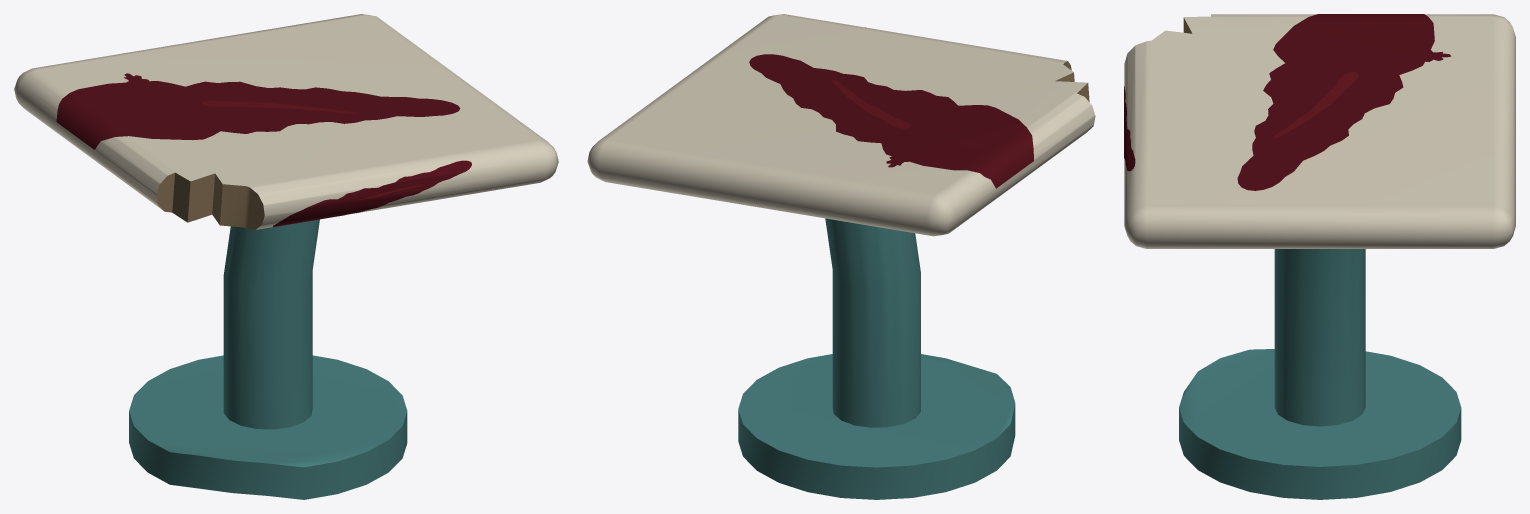
The model's file is break_table.glb.
The picture shows the model from 3 angles, left to right: view 1: azimuth 30°, elevation 25°; view 2: azimuth 150°, elevation 25°; view 3: azimuth 270°, elevation 25°; orthographic projection.
Parts seen in each view (by area): view 1: Outbreak_11_standard_table_Static; view 2: Outbreak_11_standard_table_Static; view 3: Outbreak_11_standard_table_Static.
Part boxes in pixels (bbox=[...]): Outbreak_11_standard_table_Static: bbox=[14, 14, 558, 499]; Outbreak_11_standard_table_Static: bbox=[587, 14, 1095, 499]; Outbreak_11_standard_table_Static: bbox=[1124, 14, 1515, 499].
Size of the model in its own units: 0.9473 by 0.8523 by 0.8607.
